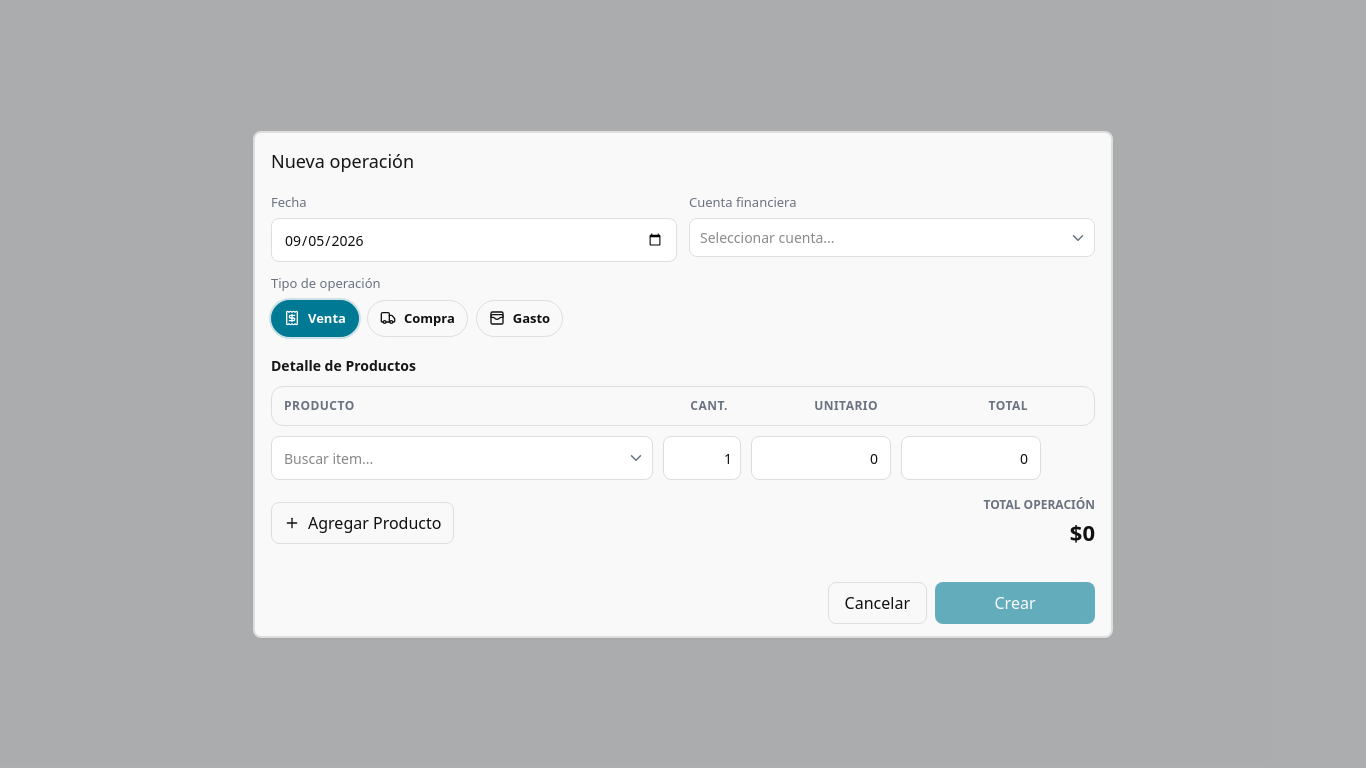
Test: OperacionCreateModal › si hay dos líneas, aparece el icono de eliminar en ambas
Click the button with test id "operaciones-add-line": (363,522) [271,502,454,544]
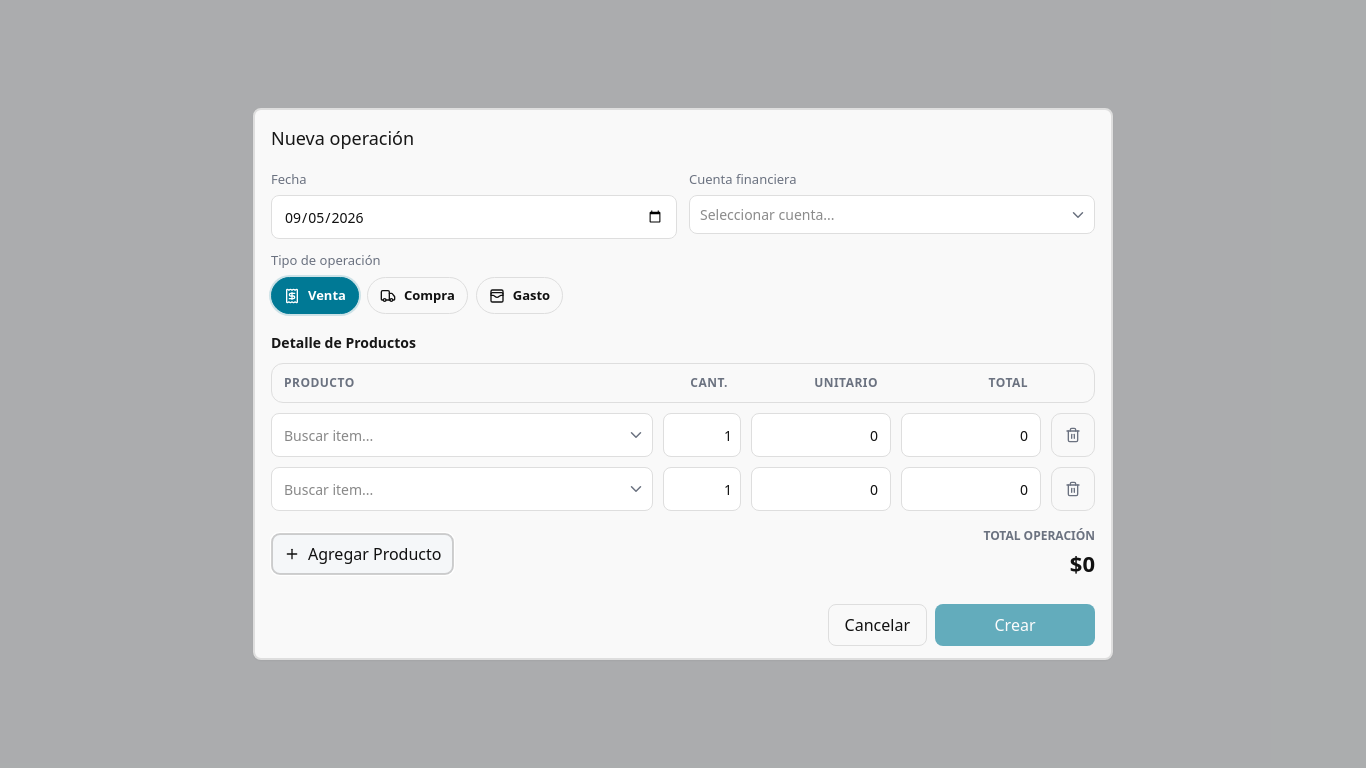
Check: the element with test id "operaciones-line-1" is shown, box [271,467,1095,511]
Check: the button with test id "operaciones-line-0-remove" is shown, box [1051,413,1095,457]
Check: the button with test id "operaciones-line-1-remove" is shown, box [1051,467,1095,511]
